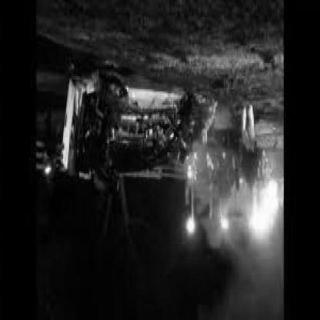other: (220, 210, 234, 238)
